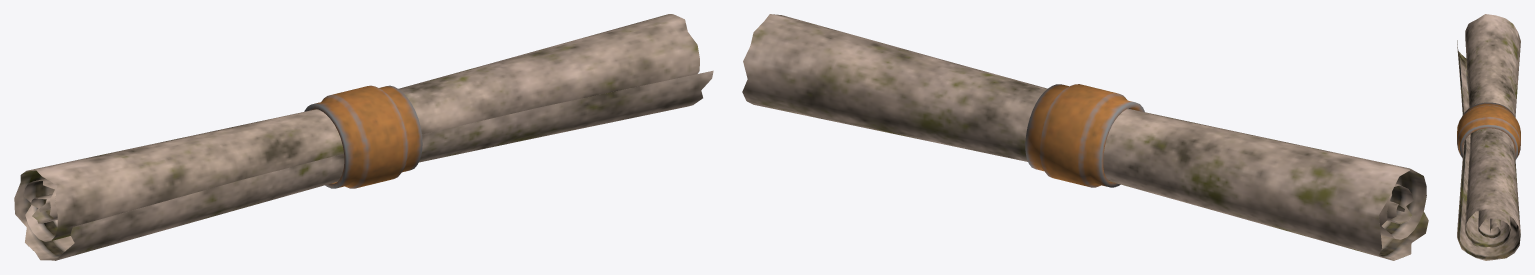
Rendered from Scroll.fbx.
The picture shows the model from 3 angles, left to right: view 1: azimuth 30°, elevation 25°; view 2: azimuth 150°, elevation 25°; view 3: azimuth 270°, elevation 25°; orthographic projection. The views are drawn at different scales.
Visible parts, largest first — view 1: Scroll; view 2: Scroll; view 3: Scroll.
Boxes of the visible parts, x1,y1,x2,y2 form: Scroll: [14, 14, 713, 260]; Scroll: [742, 14, 1428, 260]; Scroll: [1457, 14, 1520, 260].
Bounding box in the file's own units: 30.89 × 3.85 × 4.23.
